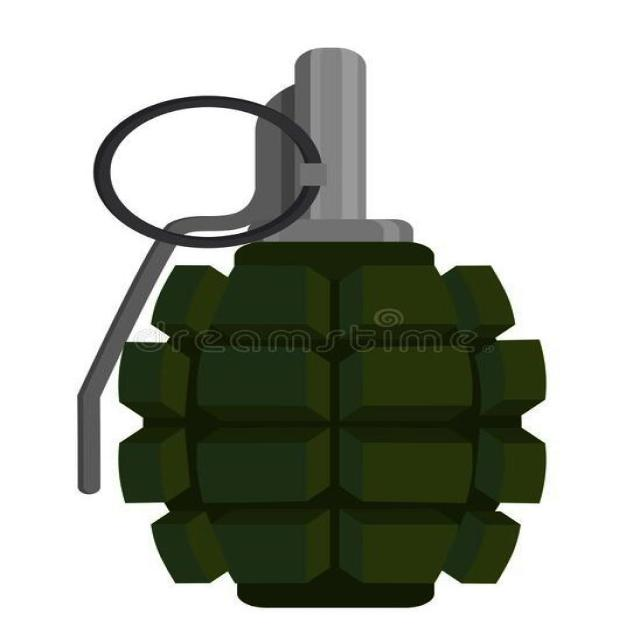grenade: (78, 48, 546, 608)
